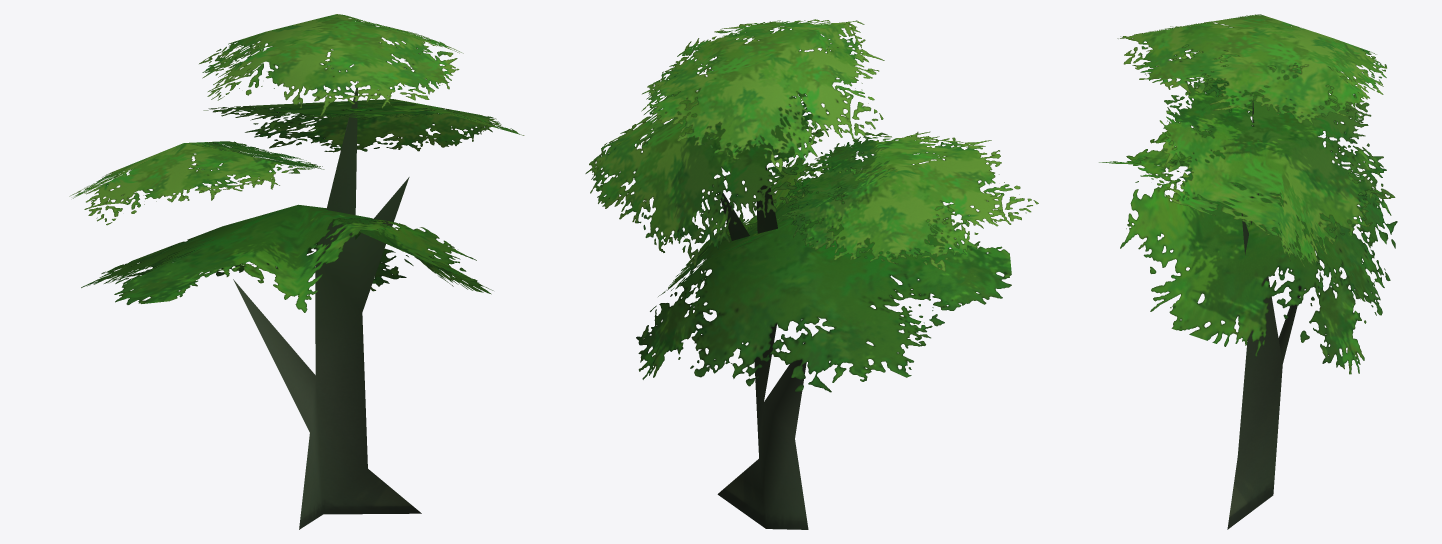
File: Sce_tree_03.fbx
The picture shows the model from 3 angles, left to right: view 1: azimuth 30°, elevation 25°; view 2: azimuth 150°, elevation 25°; view 3: azimuth 270°, elevation 25°; orthographic projection. The views are drawn at different scales.
Parts seen in each view (by area): view 1: polySurface513; view 2: polySurface513; view 3: polySurface513.
Part boxes in pixels (box(x1,y1,x2,y2)): polySurface513: box(69, 14, 524, 529); polySurface513: box(585, 19, 1038, 529); polySurface513: box(1099, 14, 1397, 529).
Bounding box in the file's own units: 31.54 × 29.78 × 20.57.
